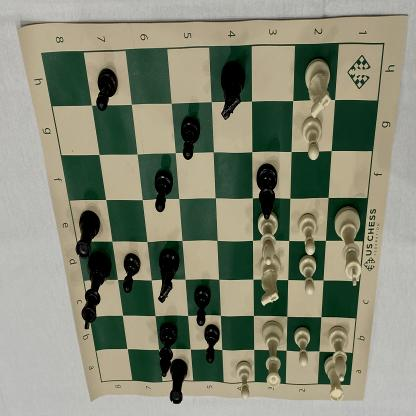black-bishop: (156, 318, 178, 380), (256, 162, 278, 221)
black-king: (79, 253, 113, 335)
black-knight: (218, 60, 246, 124), (156, 247, 180, 306)
black-pawn: (95, 66, 120, 114), (152, 168, 174, 216), (180, 115, 200, 162), (121, 251, 141, 297), (193, 284, 211, 328), (204, 324, 222, 366)
black-rook: (73, 208, 102, 262), (168, 357, 189, 408)
white-bishop: (325, 324, 352, 382), (257, 212, 278, 267)
white-king: (332, 205, 365, 287)
white-knight: (304, 56, 334, 122), (257, 252, 282, 308)
white-pawn: (300, 115, 324, 162), (295, 212, 320, 256), (296, 252, 318, 298), (292, 324, 312, 371), (234, 358, 254, 404)
white-queen: (259, 319, 285, 392)
white-rook: (322, 352, 346, 404)
